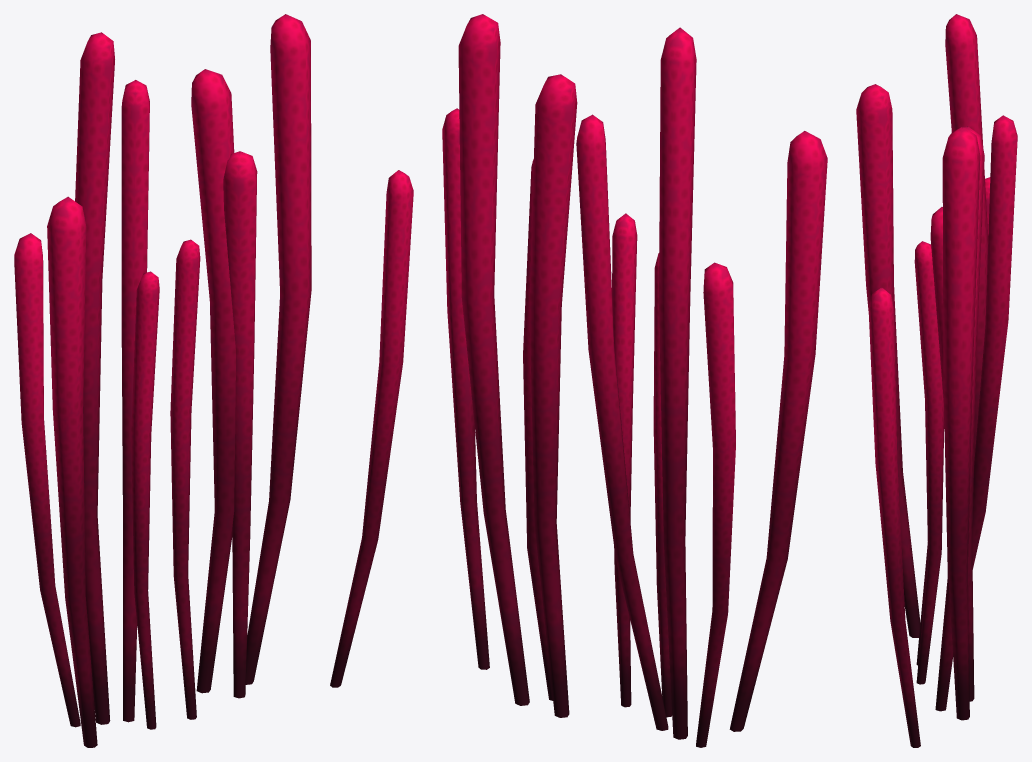
The model's file is Coral_07c.FBX.
The picture shows the model from 3 angles, left to right: view 1: azimuth 30°, elevation 25°; view 2: azimuth 150°, elevation 25°; view 3: azimuth 270°, elevation 25°; orthographic projection. The views are drawn at different scales.
Parts seen in each view (by area): view 1: Coral_07c; view 2: Coral_07c; view 3: Coral_07c.
Part boxes in pixels (bbox=[...]): Coral_07c: bbox=[14, 14, 413, 747]; Coral_07c: bbox=[442, 14, 827, 747]; Coral_07c: bbox=[856, 14, 1017, 747].
Bounding box in the file's own units: 120 × 217 × 49.99.
